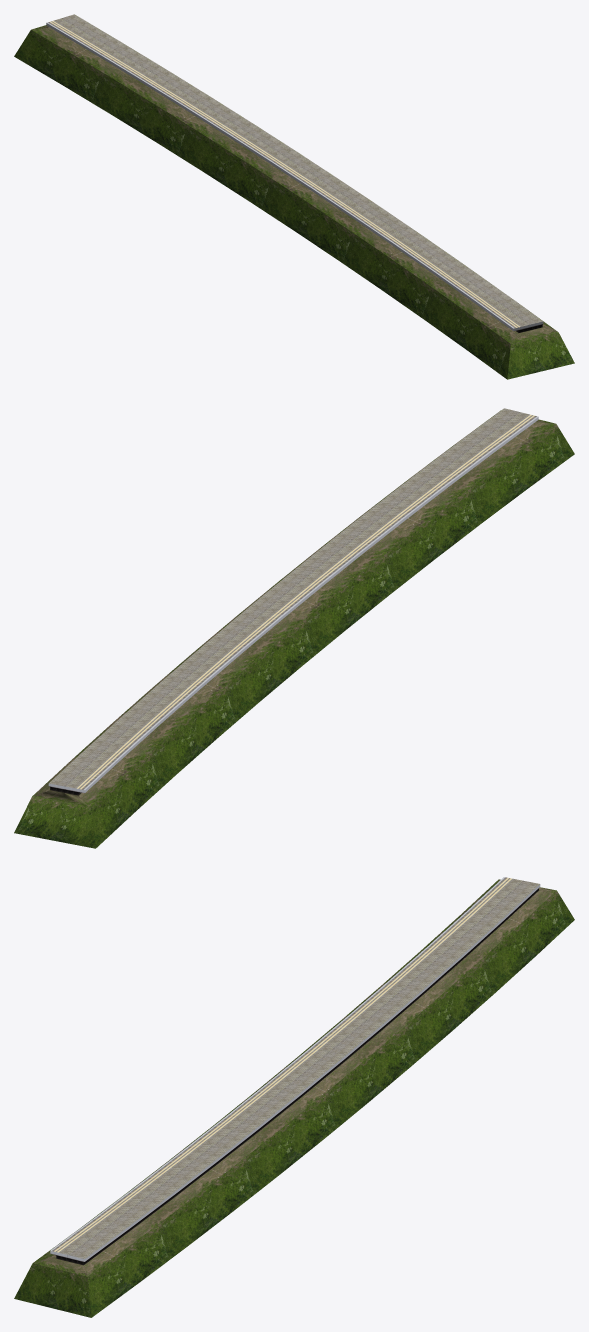
Rendered from platform_rus_1r.gltf.
3 views of the same model, one above another, from view 1: azimuth 30°, elevation 25°; view 2: azimuth 150°, elevation 25°; view 3: azimuth 330°, elevation 25° (orthographic). The views are drawn at different scales.
Size of the model in its own units: 14.22 by 4.75 by 106.
1 material, 1 textured.
